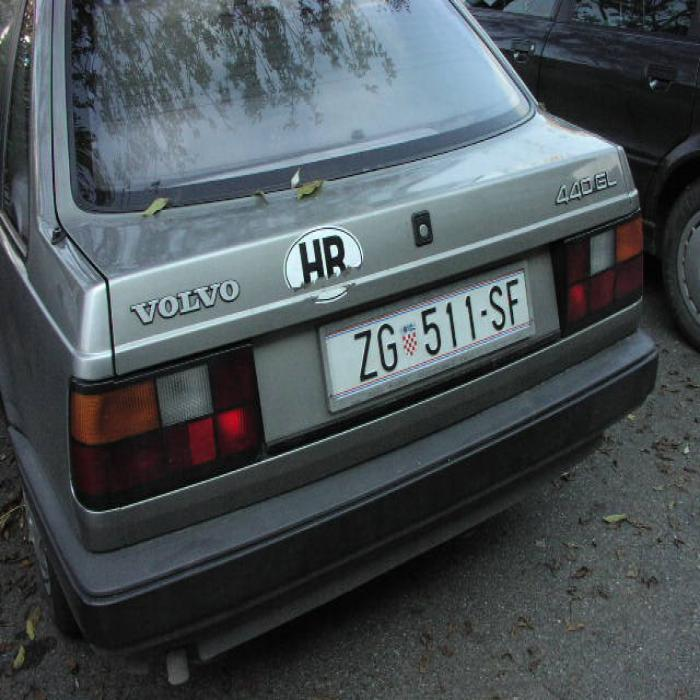number_plate: (329, 271, 525, 404)
